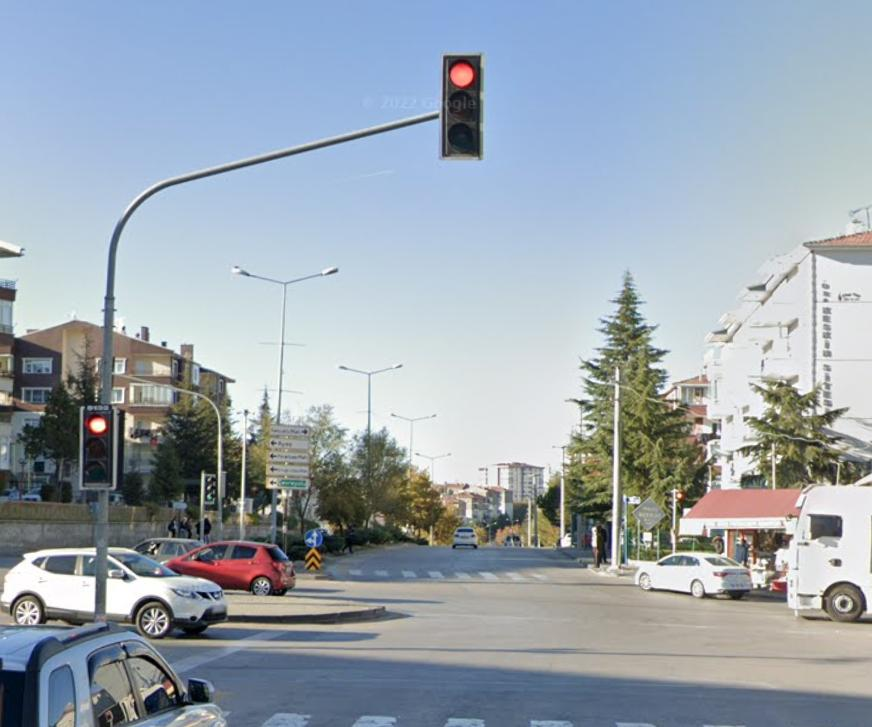redlight: (446, 58, 482, 146), (82, 406, 115, 484)
